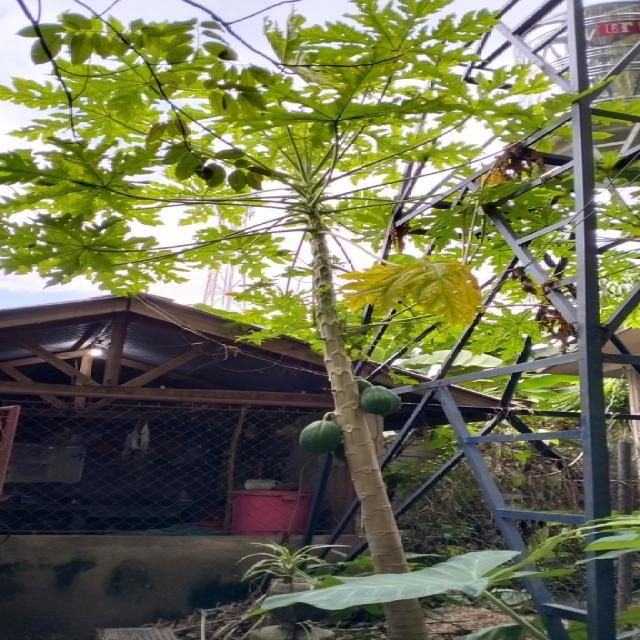Papaya-Tree: (49, 19, 565, 487)
